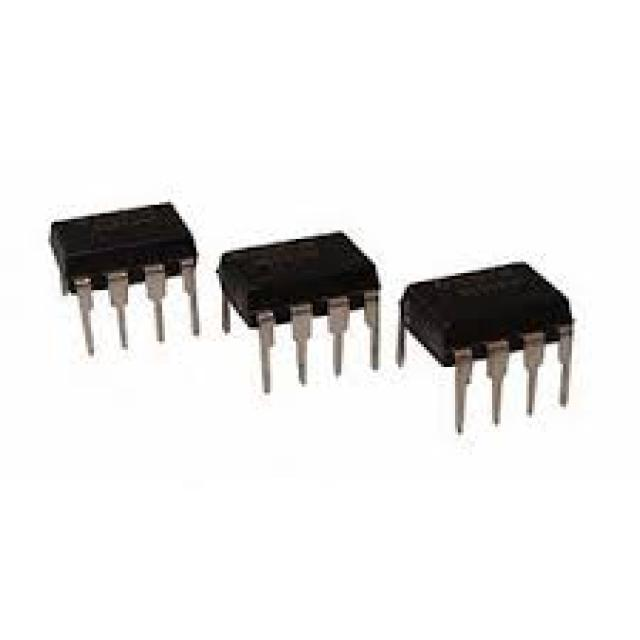IC: (394, 263, 574, 434), (215, 231, 383, 394), (49, 202, 203, 356)
